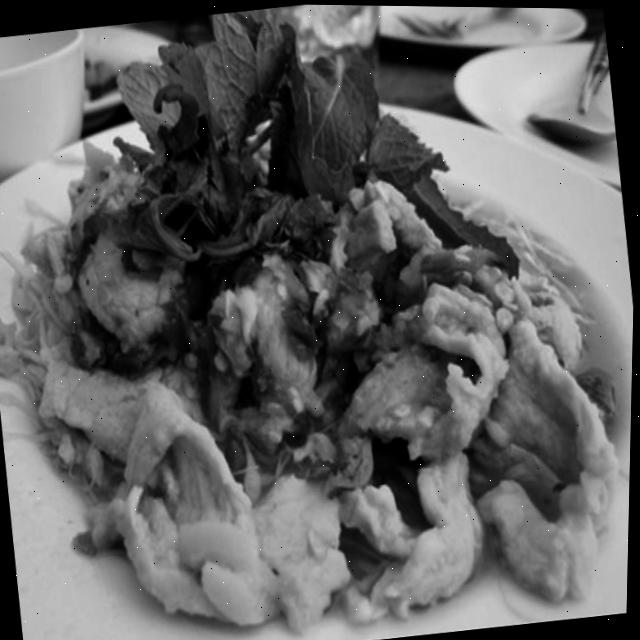猪肉菜式: (0, 13, 640, 640)
